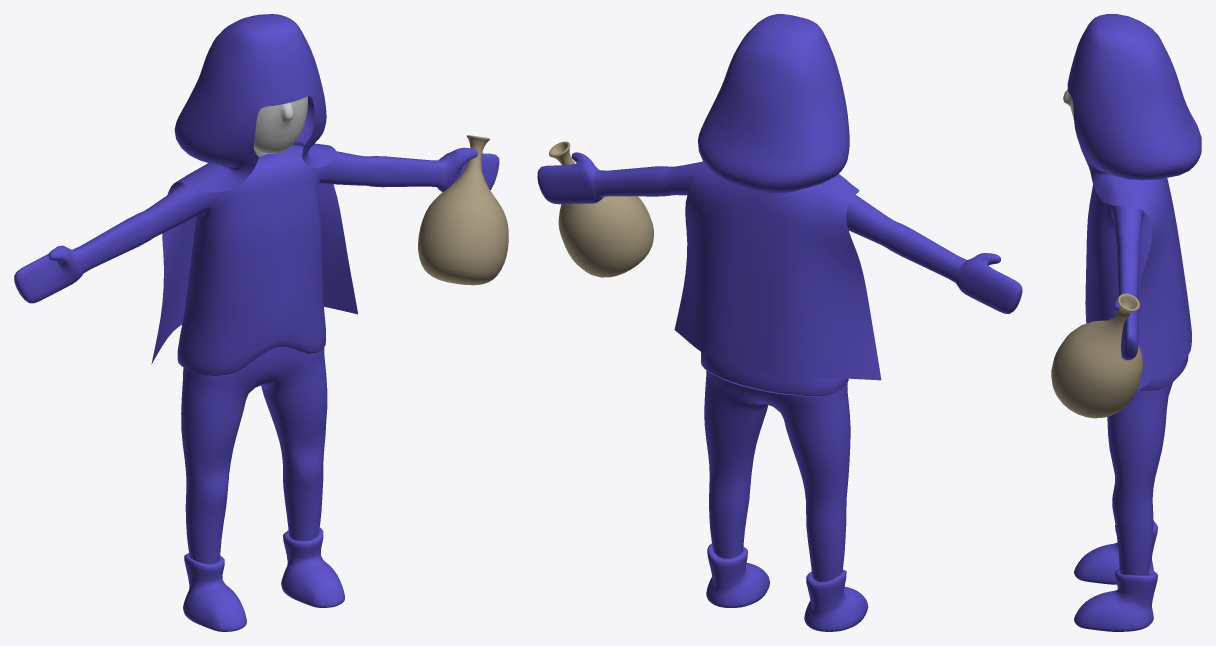
Rendered from thief_notriggedFORZBRUSH.FBX.
The picture shows the model from 3 angles, left to right: view 1: azimuth 30°, elevation 25°; view 2: azimuth 150°, elevation 25°; view 3: azimuth 270°, elevation 25°; orthographic projection.
Visible parts, largest first — view 1: thief; view 2: thief; view 3: thief.
Boxes of the visible parts, x1,y1,x2,y2 form: thief: (14,14,508,631); thief: (537,14,1022,631); thief: (1051,14,1201,631).
Size of the model in its own units: 162 by 188 by 44.37.
